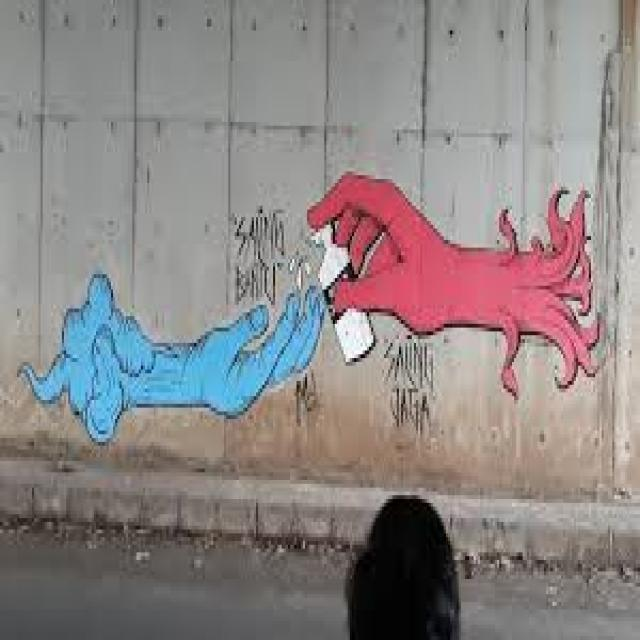-: (17, 171, 601, 445)
